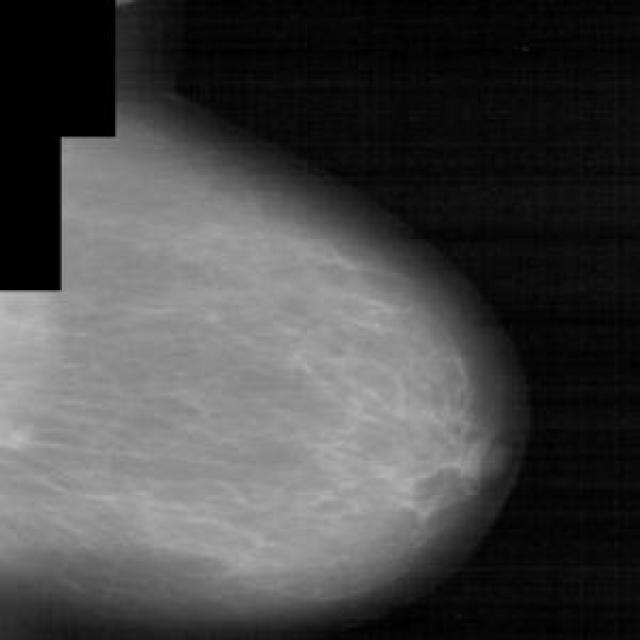tumor: (378, 354, 490, 529)
